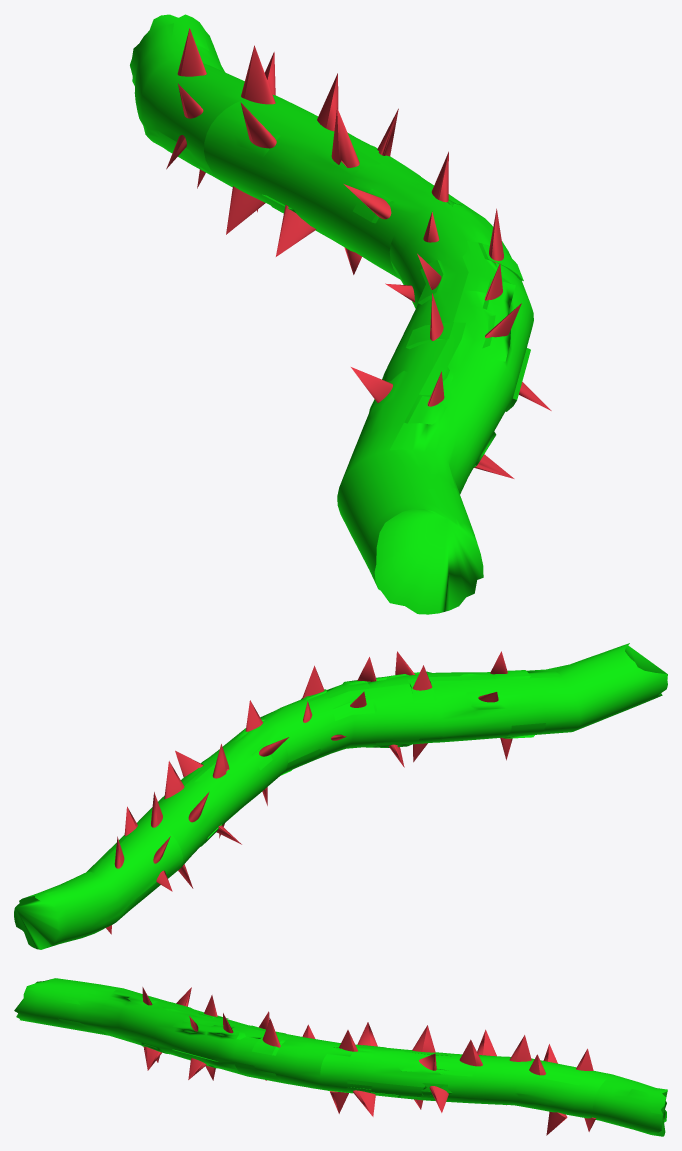
Rendered from plant1.fbx.
The picture shows the model from 3 angles, top to bottom: view 1: azimuth 30°, elevation 25°; view 2: azimuth 150°, elevation 25°; view 3: azimuth 270°, elevation 25°; orthographic projection. The views are drawn at different scales.
Parts seen in each view (by area): view 1: Cylinder; view 2: Cylinder; view 3: Cylinder.
Part boxes in pixels (left/top/right/bottom): Cylinder: left=130, top=14, right=551, bottom=614; Cylinder: left=14, top=643, right=667, bottom=949; Cylinder: left=14, top=978, right=667, bottom=1136.
Size of the model in its own units: 353 by 160 by 865.
